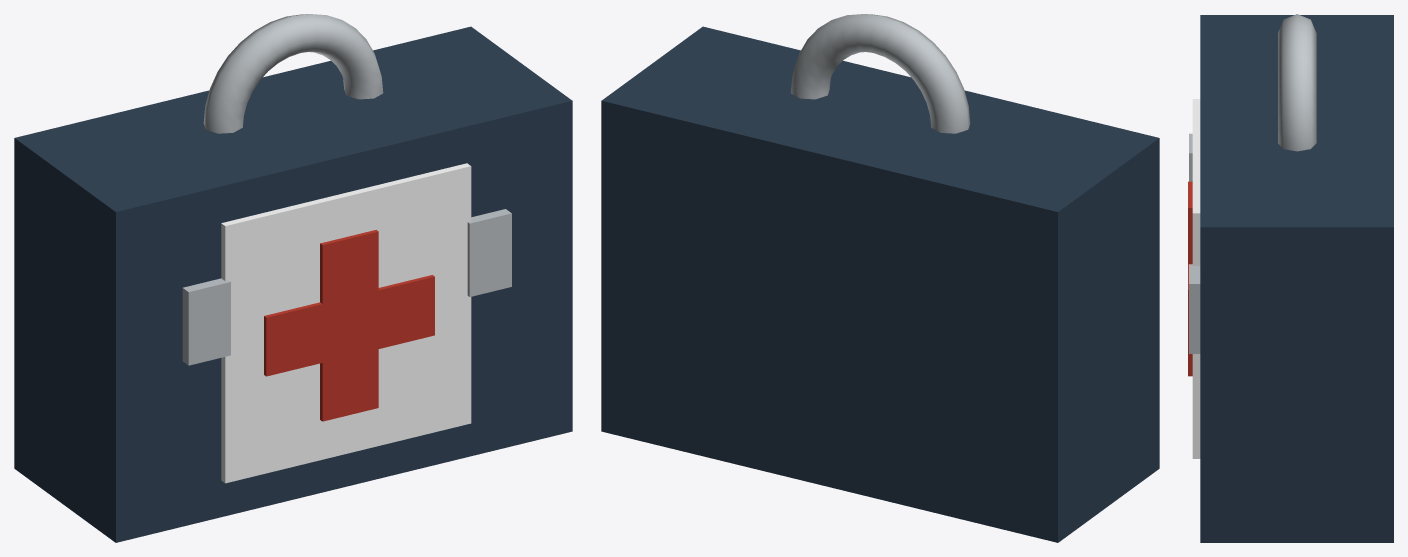
Rendered from medkit.glb.
The picture shows the model from 3 angles, left to right: view 1: azimuth 30°, elevation 25°; view 2: azimuth 150°, elevation 25°; view 3: azimuth 270°, elevation 25°; orthographic projection. The views are drawn at different scales.
Parts seen in each view (by area): view 1: FieldMedkit; view 2: FieldMedkit; view 3: FieldMedkit.
Boxes of the visible parts, <box> form: FieldMedkit: <box>14,14,572,542</box>; FieldMedkit: <box>601,14,1159,542</box>; FieldMedkit: <box>1188,14,1393,542</box>.
Size of the model in its own units: 0.65 by 0.59 by 0.266.
